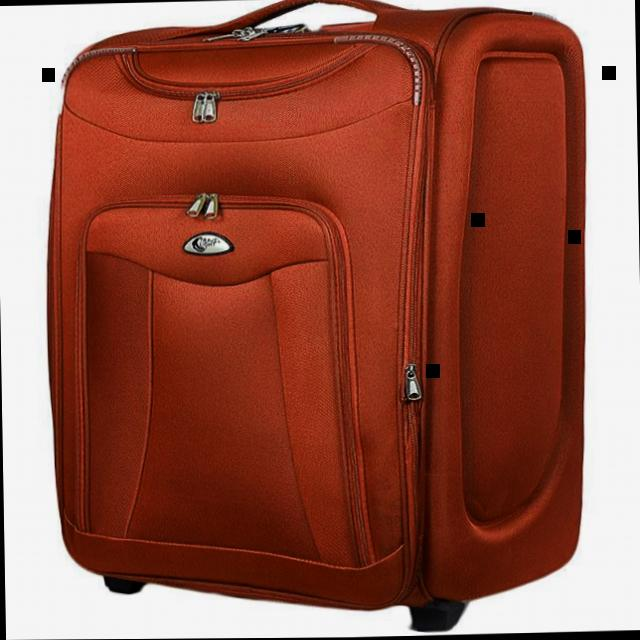luggage: (27, 0, 599, 620)
